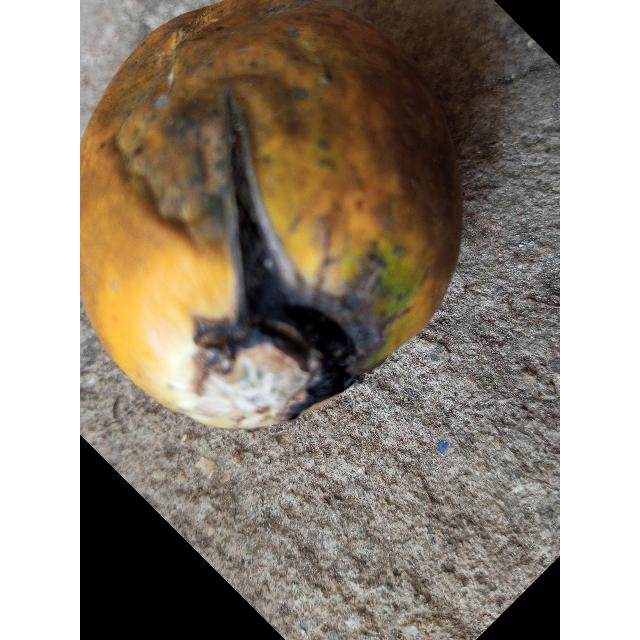damaged: (80, 0, 464, 432)
